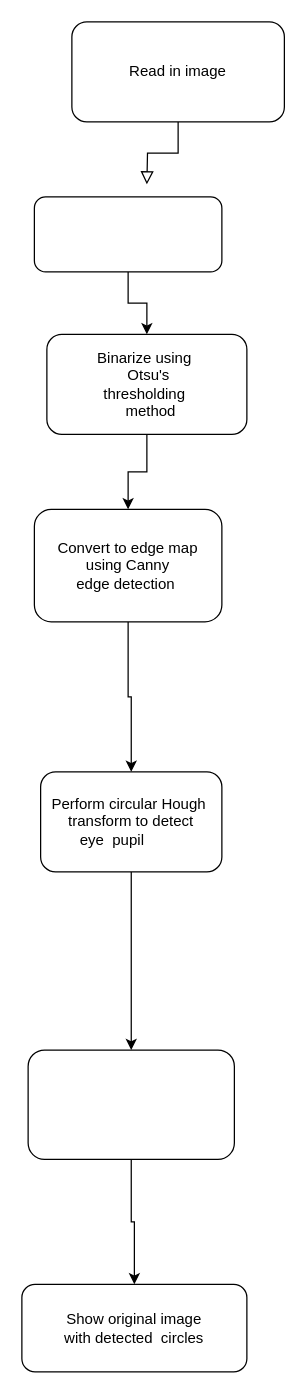
Some shapes in this 306 by 1394 pixel diagram are drawn without their labels. The shapes that lost their labels are listed below. From the top down, each one's centre as x and y in pixels, then its label:
At (x=127, y=234): "Convert to grayscale".
At (x=130, y=1104): "If circles detected, draw them on the original image".
